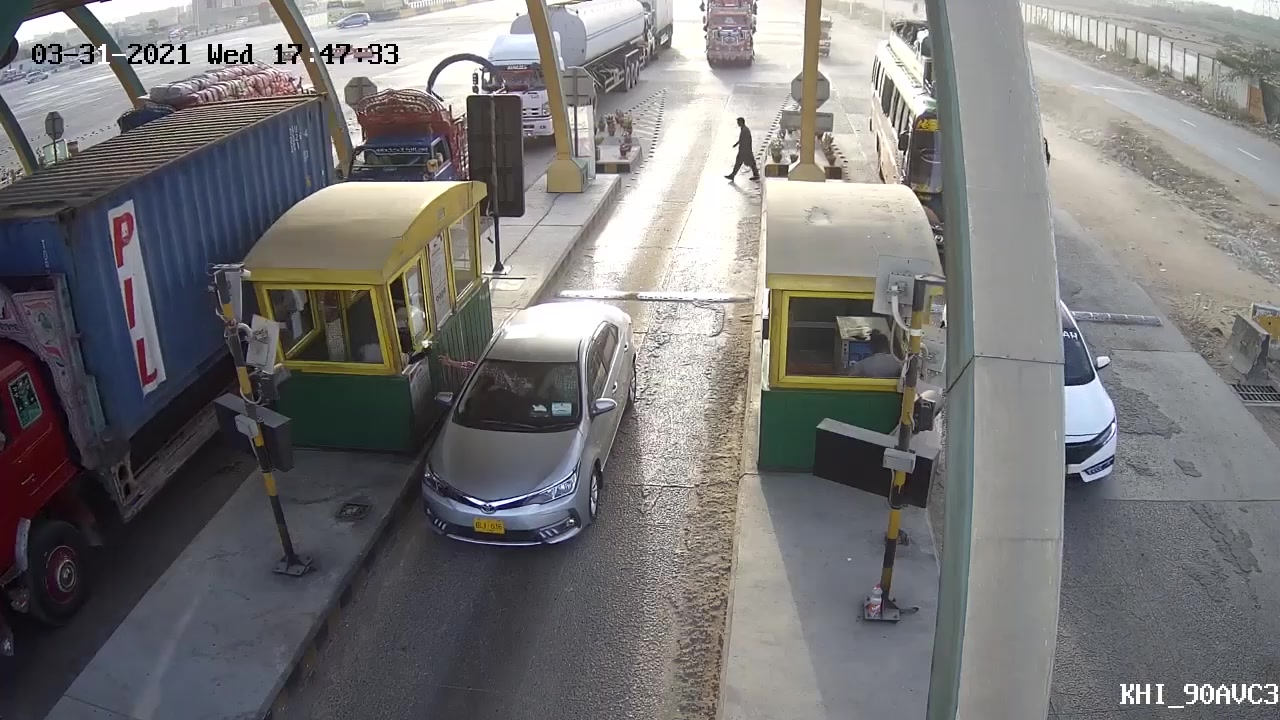F1: (424, 298, 644, 581)
